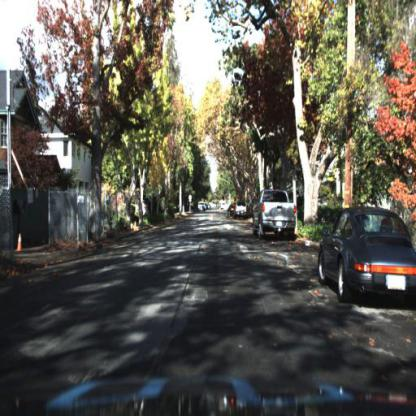car: (316, 195, 416, 315), (318, 202, 416, 322), (250, 184, 301, 248), (252, 189, 299, 237), (234, 197, 249, 221), (234, 200, 248, 221), (227, 204, 237, 217)
